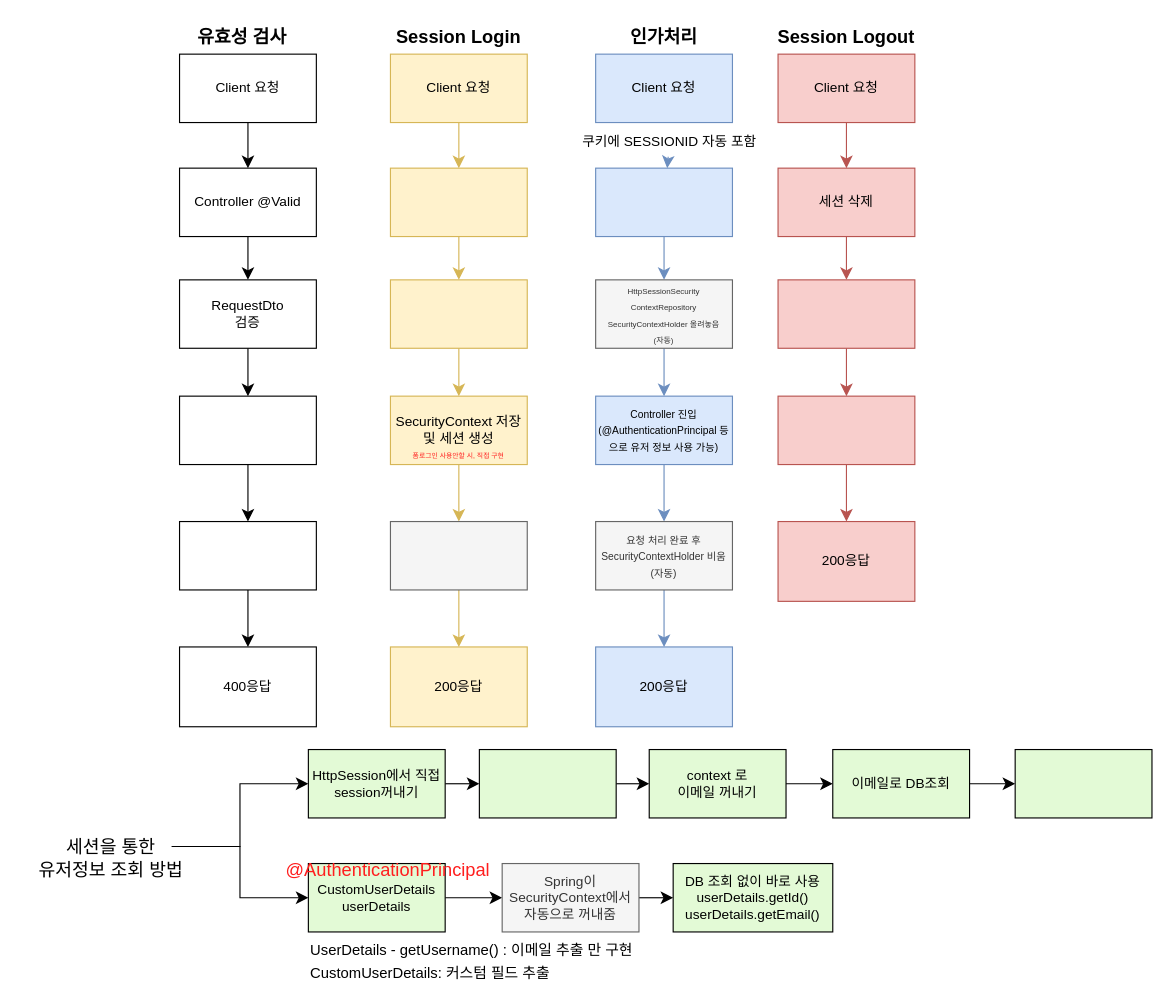
Image size: 1172x1001. Some labels were removed from this diagram. Here are the shapes that lost their labels. From the top down, the centre of each, then its label:
At point 458,202: "AuthenticationManager 인증시도".
At point 663,202: "SecurityFilterChain".
At point 458,313: "UserDetailService 로직 실행".
At point 846,313: "쿠키삭제".
At point 247,430: "MethodArgumentNotValidException 발생".
At point 846,430: "SecurityContext 에서 인증 정보 삭제".
At point 247,555: "@ExceptionHandler 첫번째 에러메시지 추출".
At point 458,555: "SESSIONID 발급 및 쿠키 세팅 (자동)".
At point 547,783: "session으로 SecurityContext 꺼내기".
At point 1083,783: "유저정보사용".
